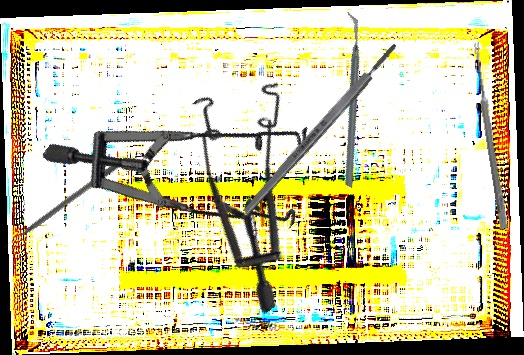Chopper: (278, 11, 422, 189)
Pusher: (1, 160, 121, 250)
Scalpel Handle: (240, 40, 401, 217)
Speculum: (41, 8, 346, 307), (137, 55, 384, 316)
Surgical Spoon: (470, 41, 510, 230)
